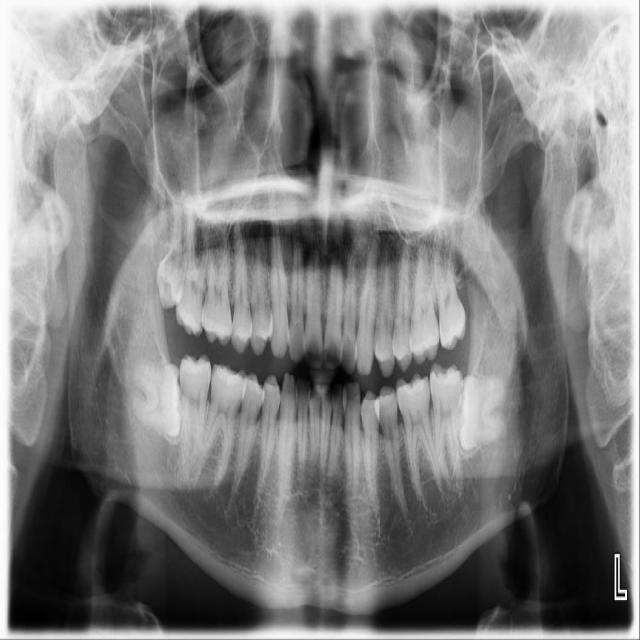3M ESPE Implant: (151, 202, 197, 312)
73: (623, 611, 631, 624)
BioHorizons Implant: (428, 220, 469, 352)
Biomet 3i Implant: (455, 375, 507, 452)
Blue Sky Bio Implant: (429, 361, 466, 490)
Caries: (173, 195, 213, 338)
Implant: (168, 352, 213, 481)
Keystone Dental Implant: (130, 361, 186, 438)
